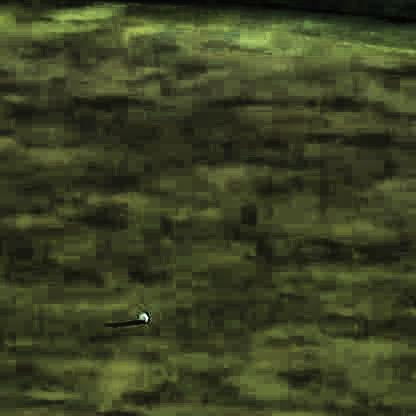golfball: (135, 309, 148, 320)
